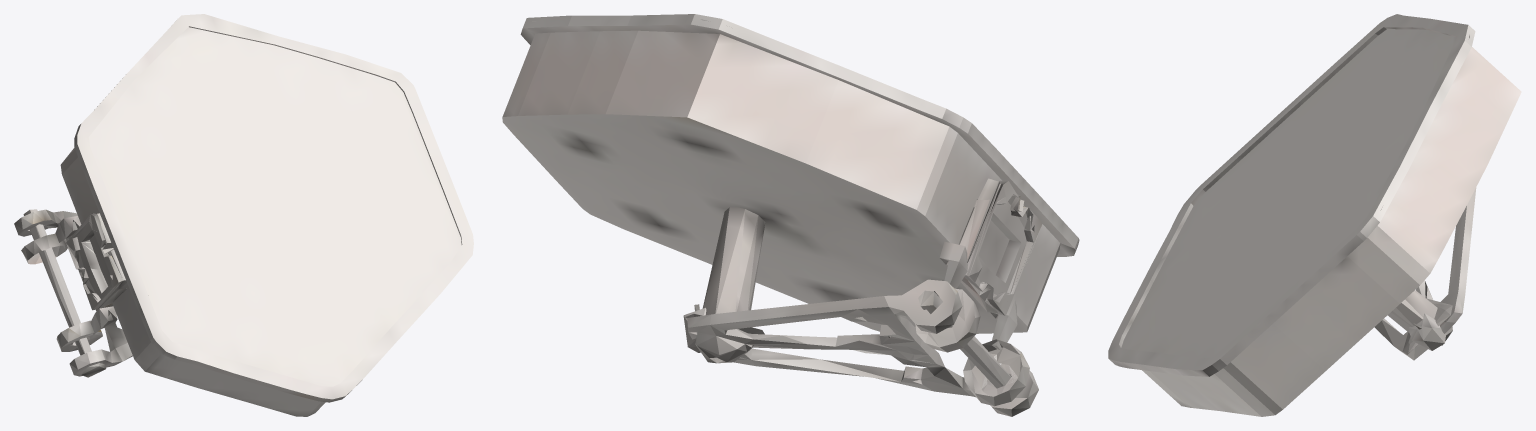
Rendered from hga_el.obj.
3 renders of one model, left to right at view 1: azimuth 30°, elevation 25°; view 2: azimuth 150°, elevation 25°; view 3: azimuth 270°, elevation 25°, orthographic. The views are drawn at different scales.
Size of the model in its own units: 0.2946 by 0.2485 by 0.2485.
1 material, 1 textured.
